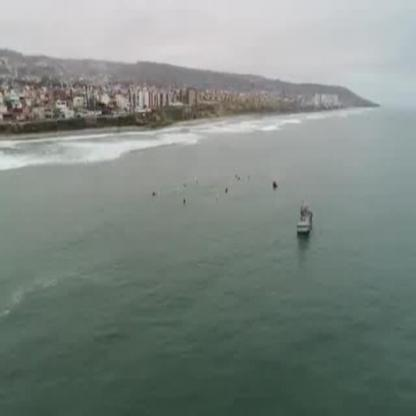Boat: (292, 204, 316, 236)
